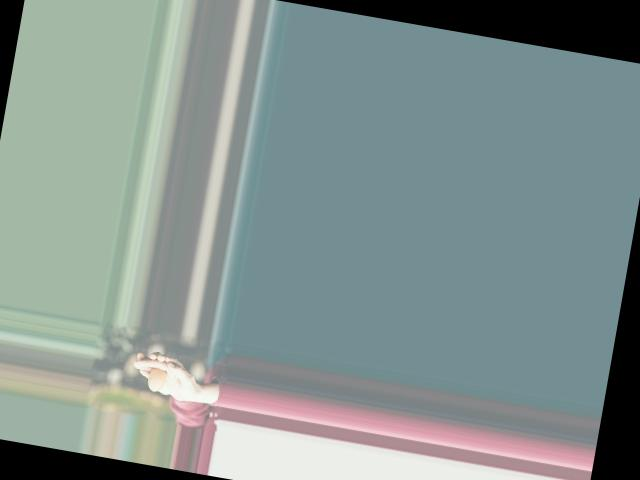egg: (147, 367, 168, 392)
